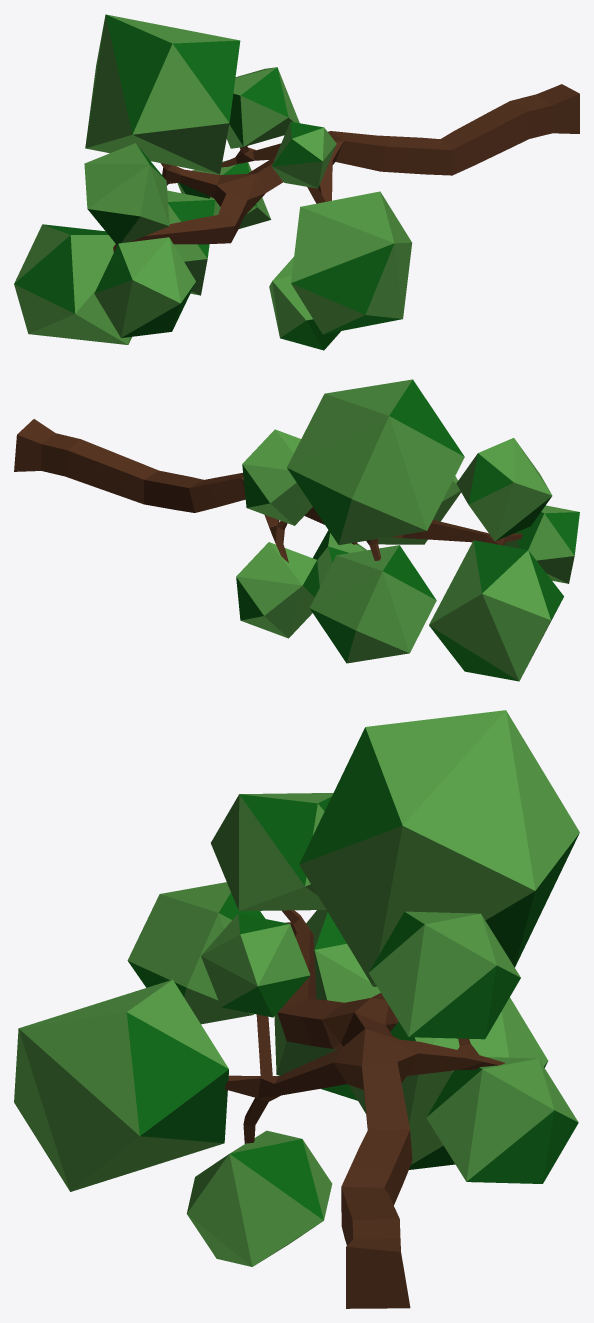
Rendered from TreeV2.fbx.
3 renders of one model, top to bottom at view 1: azimuth 30°, elevation 25°; view 2: azimuth 150°, elevation 25°; view 3: azimuth 270°, elevation 25°, orthographic. The views are drawn at different scales.
Parts seen in each view (by area): view 1: TreeV2.001; view 2: TreeV2.001; view 3: TreeV2.001.
Part boxes in pixels (x1,y1,x2,y2): TreeV2.001: (14, 14, 579, 350); TreeV2.001: (14, 379, 579, 681); TreeV2.001: (14, 710, 579, 1308).
Bounding box in the file's own units: 540 × 278 × 313.
